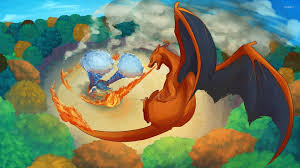charizard: (60, 1, 298, 166)
